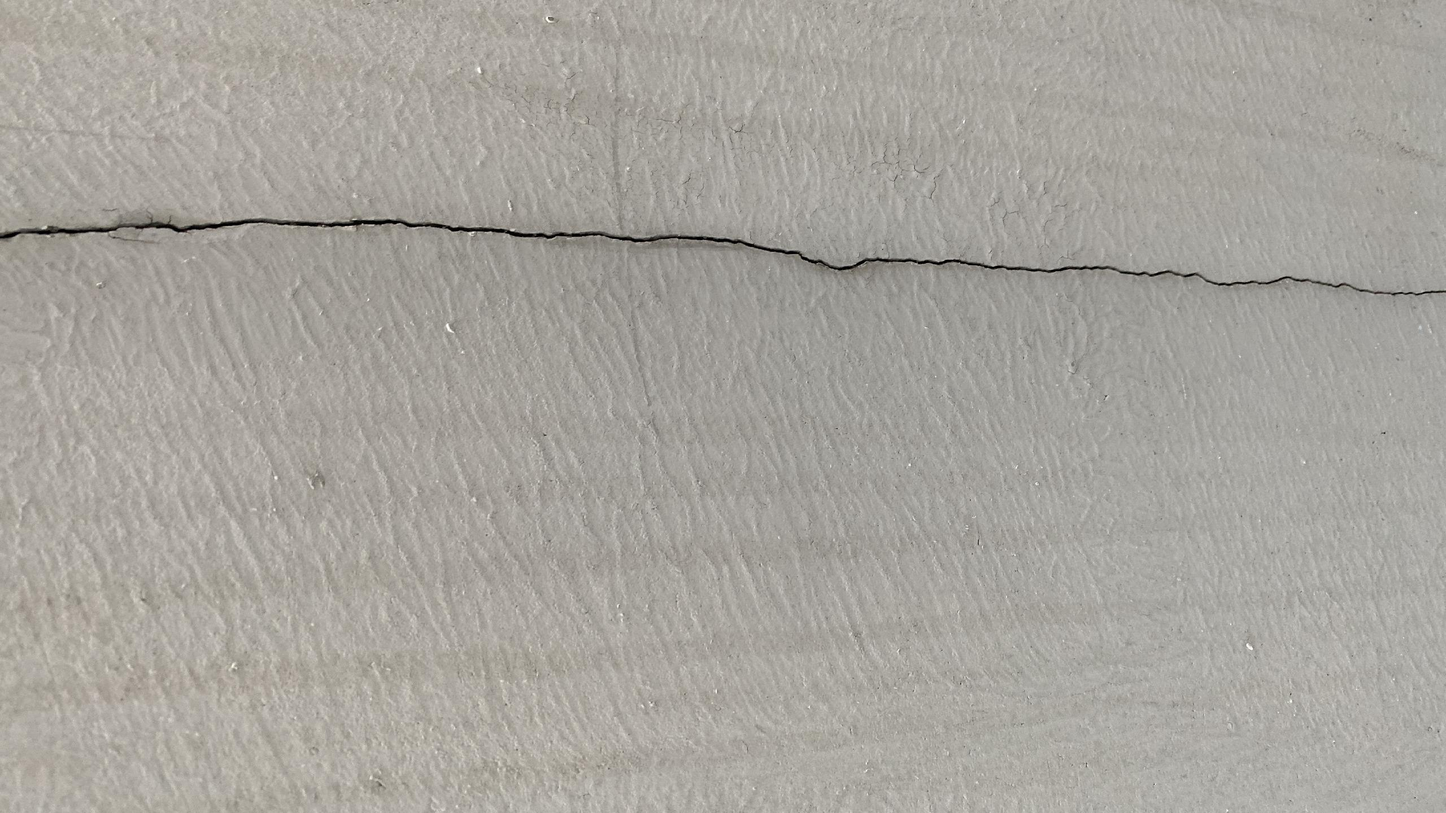crack: (2, 217, 1443, 297)
